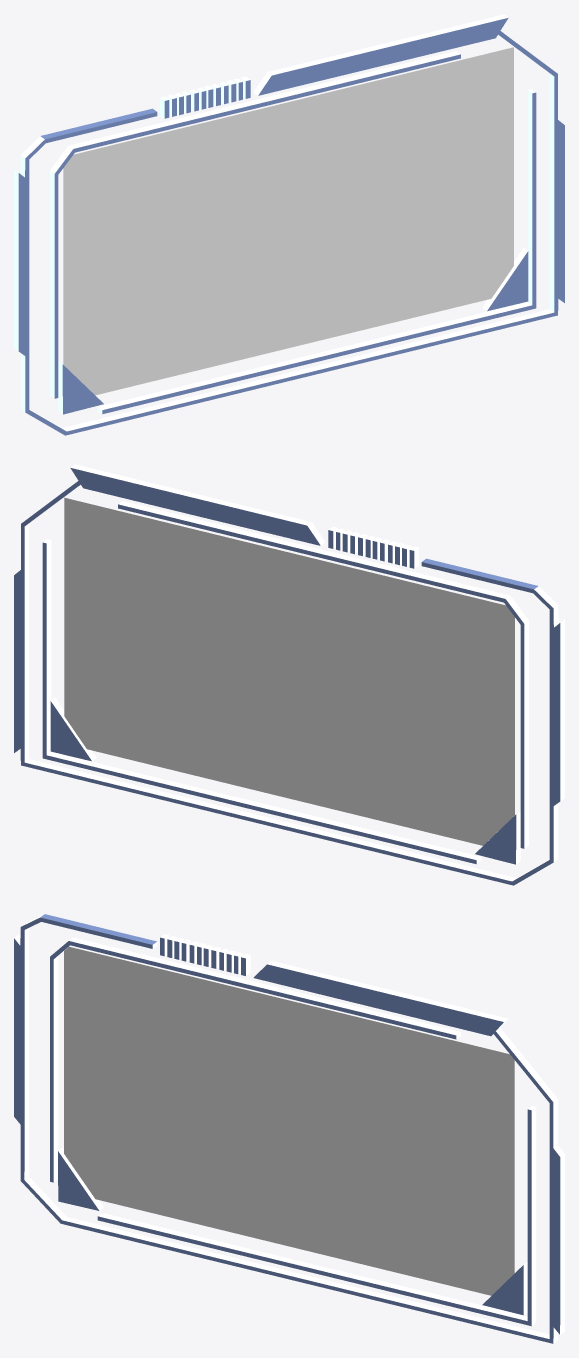
The model's file is TextBox.glb.
The picture shows the model from 3 angles, top to bottom: view 1: azimuth 30°, elevation 25°; view 2: azimuth 150°, elevation 25°; view 3: azimuth 330°, elevation 25°; orthographic projection.
Visible parts, largest first — view 1: Plane, MessageBox; view 2: Plane, MessageBox; view 3: Plane, MessageBox.
Part boxes in pixels (x1,y1,x2,y2): Plane: [63, 47, 513, 395]; MessageBox: [14, 14, 564, 435]; Plane: [64, 497, 514, 845]; MessageBox: [14, 464, 564, 885]; Plane: [64, 946, 514, 1295]; MessageBox: [14, 914, 564, 1343].
Bounding box in the file's own units: 1.71 × 0.9263 × 0.0253.
